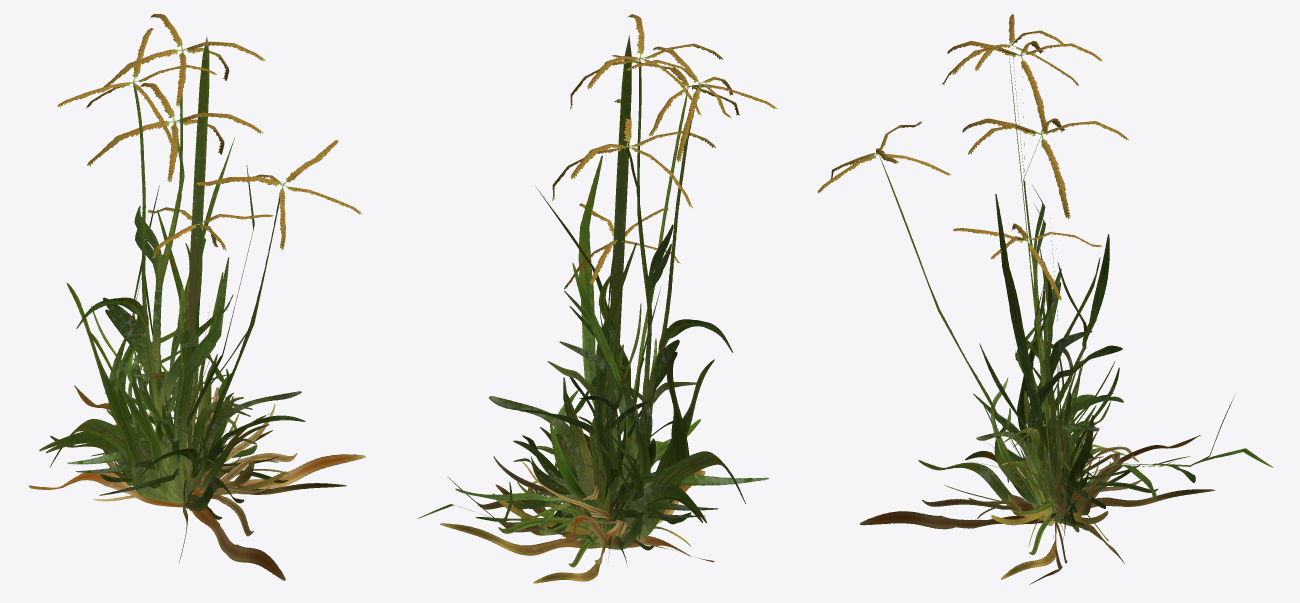
The model's file is kit-grass.glb.
3 renders of one model, left to right at view 1: azimuth 30°, elevation 25°; view 2: azimuth 150°, elevation 25°; view 3: azimuth 270°, elevation 25°, orthographic. The views are drawn at different scales.
Parts seen in each view (by area): view 1: grass_bermuda_01_seedling_d, grass_bermuda_01_seedling_a, grass_bermuda_01_seedling_b, grass_bermuda_01_medium_b, grass_bermuda_01_dead_a, grass_bermuda_01_medium_c, grass_bermuda_01_small_e, grass_bermuda_01_small_c, grass_bermuda_01_dead_b, grass_bermuda_01_single_a, grass_bermuda_01_single_b, grass_bermuda_01_medium_e (+9 smaller); view 2: grass_bermuda_01_seedling_a, grass_bermuda_01_seedling_b, grass_bermuda_01_seedling_d, grass_bermuda_01_medium_b, grass_bermuda_01_medium_c, grass_bermuda_01_medium_a, grass_bermuda_01_small_a, grass_bermuda_01_single_a, grass_bermuda_01_medium_d, grass_bermuda_01_dead_b, grass_bermuda_01_flattened_a, grass_bermuda_01_small_c (+8 smaller); view 3: grass_bermuda_01_seedling_d, grass_bermuda_01_medium_c, grass_bermuda_01_seedling_a, grass_bermuda_01_seedling_b, grass_bermuda_01_medium_a, grass_bermuda_01_dead_a, grass_bermuda_01_small_c, grass_bermuda_01_medium_b, grass_bermuda_01_dead_b, grass_bermuda_01_seedling_c, grass_bermuda_01_flattened_a, grass_bermuda_01_medium_f (+5 smaller).
Part boxes in pixels (x1,y1,x2,y2): grass_bermuda_01_seedling_d: [46, 14, 361, 495]; grass_bermuda_01_seedling_a: [49, 28, 254, 504]; grass_bermuda_01_seedling_b: [39, 83, 263, 457]; grass_bermuda_01_medium_b: [66, 283, 209, 502]; grass_bermuda_01_dead_a: [28, 423, 285, 580]; grass_bermuda_01_medium_c: [86, 319, 244, 519]; grass_bermuda_01_small_e: [161, 243, 208, 504]; grass_bermuda_01_small_c: [113, 345, 288, 504]; grass_bermuda_01_dead_b: [74, 385, 365, 488]; grass_bermuda_01_single_a: [188, 37, 209, 414]; grass_bermuda_01_single_b: [186, 38, 209, 448]; grass_bermuda_01_medium_e: [75, 324, 305, 562]; grass_bermuda_01_seedling_a: [550, 46, 776, 547]; grass_bermuda_01_seedling_b: [489, 99, 715, 535]; grass_bermuda_01_seedling_d: [569, 14, 739, 528]; grass_bermuda_01_medium_b: [532, 313, 691, 540]; grass_bermuda_01_medium_c: [531, 344, 714, 583]; grass_bermuda_01_medium_a: [514, 262, 656, 534]; grass_bermuda_01_small_a: [440, 452, 681, 555]; grass_bermuda_01_single_a: [608, 36, 631, 492]; grass_bermuda_01_medium_d: [553, 243, 705, 532]; grass_bermuda_01_dead_b: [448, 435, 609, 564]; grass_bermuda_01_flattened_a: [417, 458, 607, 547]; grass_bermuda_01_small_c: [513, 406, 639, 561]; grass_bermuda_01_seedling_d: [817, 41, 1102, 525]; grass_bermuda_01_medium_c: [918, 284, 1214, 532]; grass_bermuda_01_seedling_a: [942, 14, 1093, 491]; grass_bermuda_01_seedling_b: [962, 118, 1128, 524]; grass_bermuda_01_medium_a: [1041, 234, 1123, 508]; grass_bermuda_01_dead_a: [860, 431, 1138, 529]; grass_bermuda_01_small_c: [994, 366, 1126, 546]; grass_bermuda_01_medium_b: [1038, 257, 1100, 530]; grass_bermuda_01_dead_b: [1029, 435, 1200, 584]; grass_bermuda_01_seedling_c: [953, 223, 1102, 450]; grass_bermuda_01_flattened_a: [1051, 395, 1272, 518]; grass_bermuda_01_medium_f: [999, 248, 1077, 514].
Size of the model in its own units: 0.1049 by 0.1589 by 0.1352.
1 material, 1 textured.
